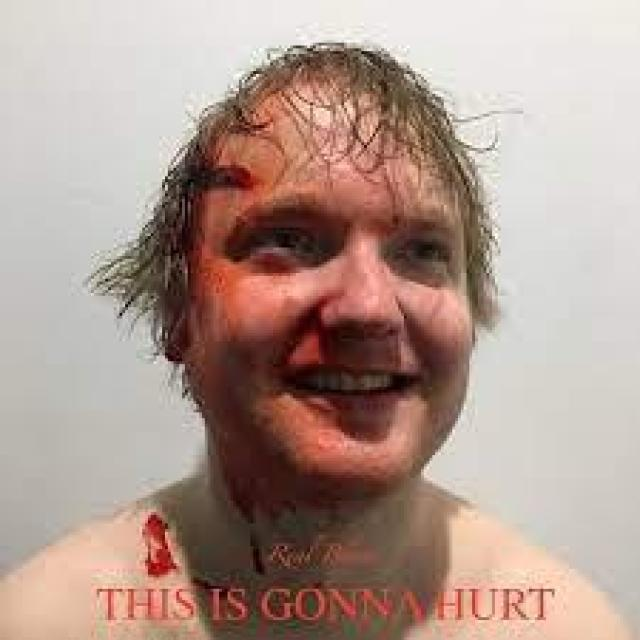flood: (209, 159, 256, 191)
